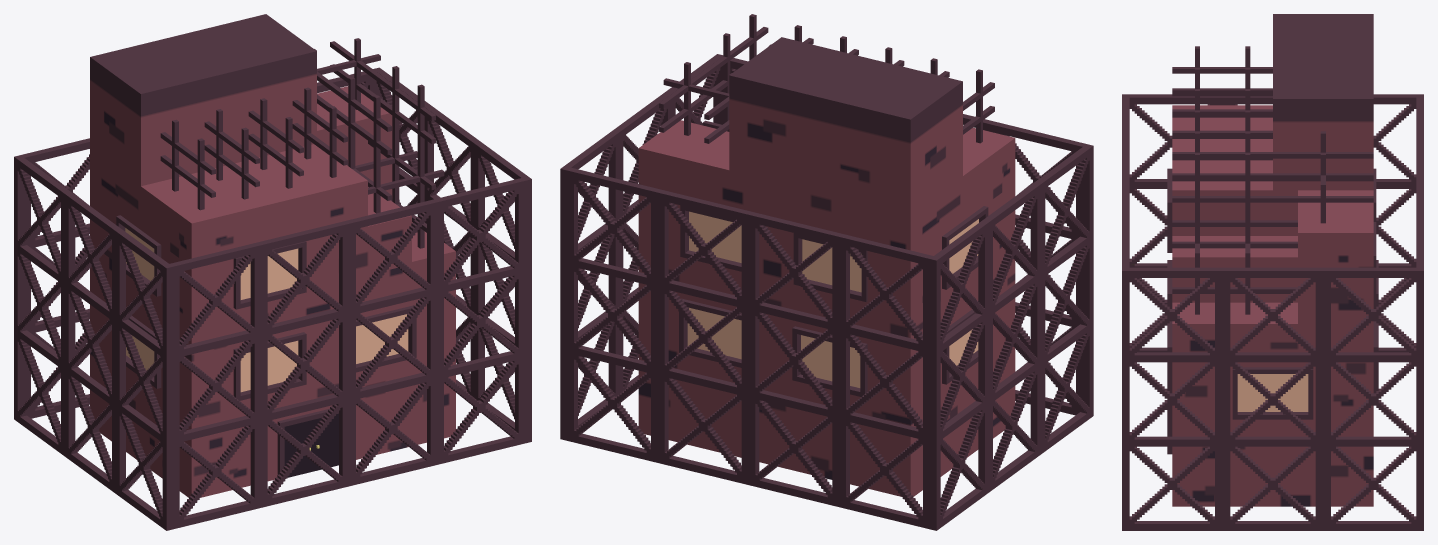
The model's file is building_test7.fbx.
3 views of the same model, side by side, from view 1: azimuth 30°, elevation 25°; view 2: azimuth 150°, elevation 25°; view 3: azimuth 270°, elevation 25° (orthographic). The views are drawn at different scales.
Parts seen in each view (by area): view 1: Object; view 2: Object; view 3: Object.
Part boxes in pixels (bbox=[...]): Object: bbox=[14, 14, 531, 530]; Object: bbox=[560, 14, 1093, 530]; Object: bbox=[1122, 14, 1423, 530].
Bounding box in the file's own units: 166 × 160 × 120.
